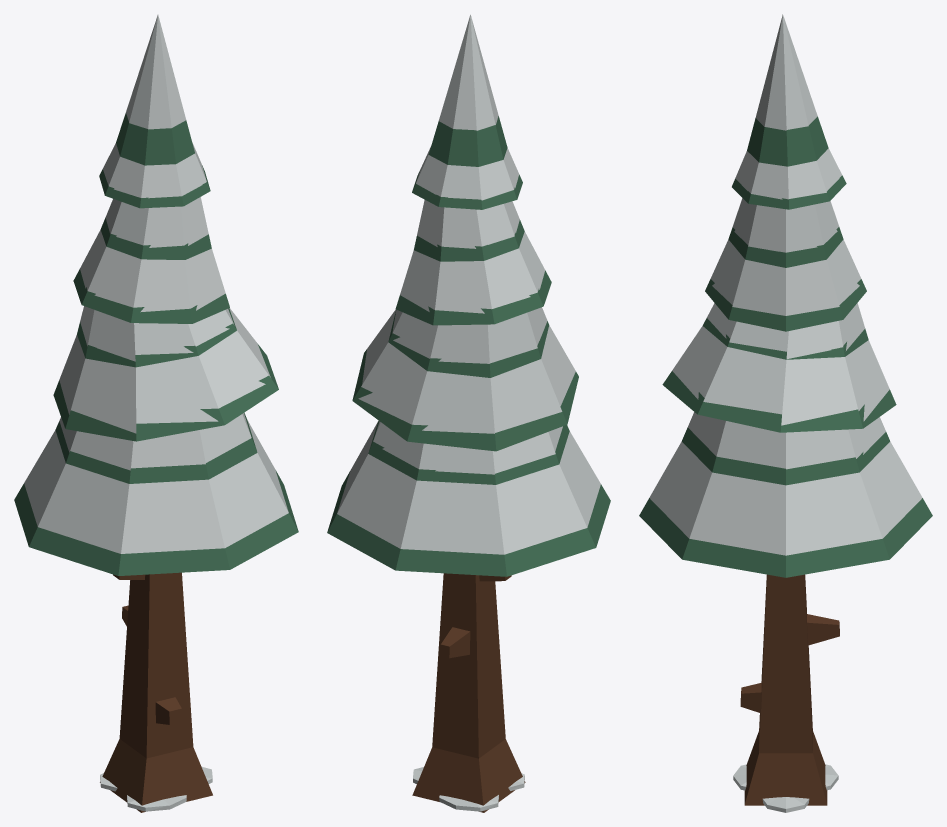
Rendered from tree_pineDefaultB_winter.glb.
3 renders of one model, left to right at view 1: azimuth 30°, elevation 25°; view 2: azimuth 150°, elevation 25°; view 3: azimuth 270°, elevation 25°, orthographic.
Visible parts, largest first — view 1: geometry; view 2: geometry; view 3: geometry.
Boxes of the visible parts, x1,y1,x2,y2 form: geometry: (14, 14, 298, 812); geometry: (327, 14, 610, 812); geometry: (639, 14, 932, 812).
Bounding box in the file's own units: 0.532 × 1.55 × 0.532.
